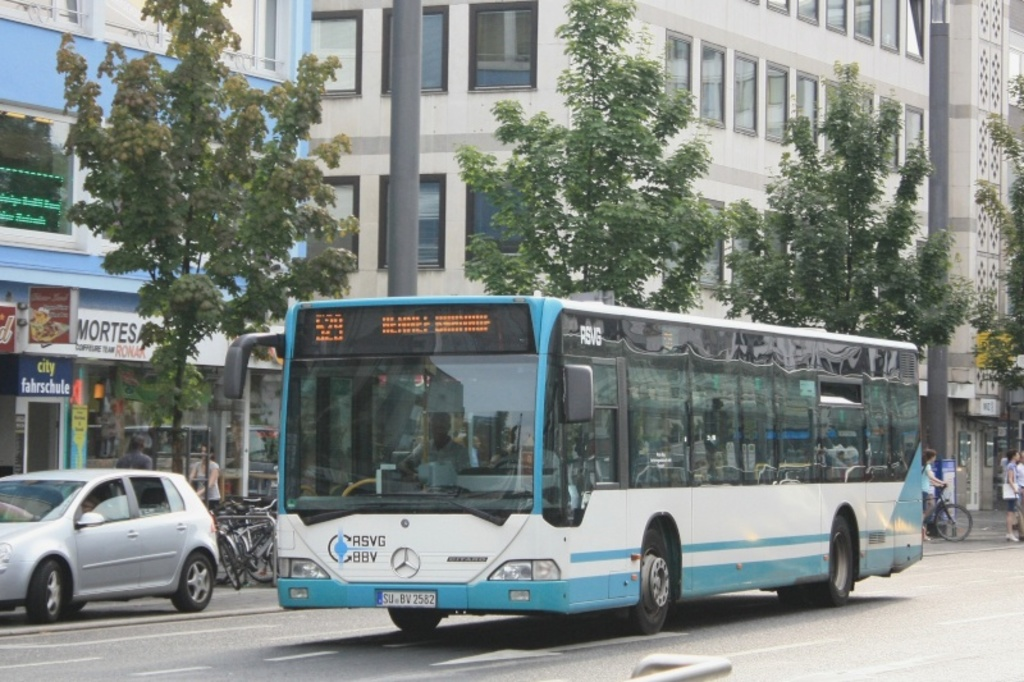Bus: (227, 290, 924, 642)
